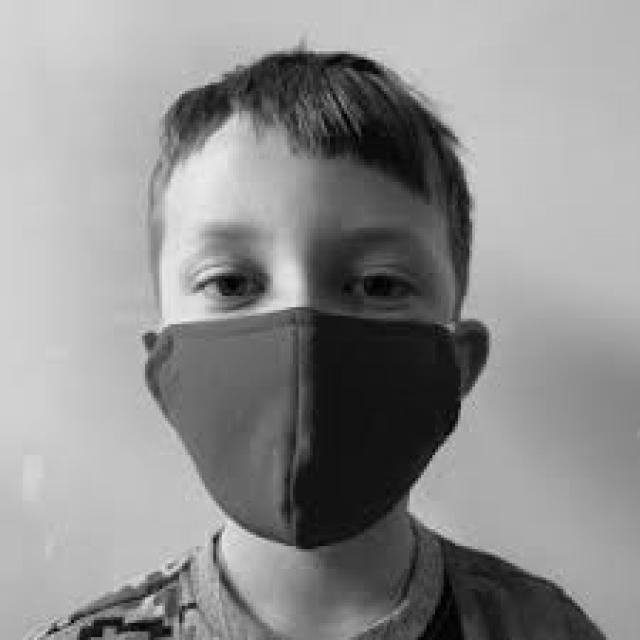fake: (141, 292, 464, 555)
real: (147, 105, 473, 542)
